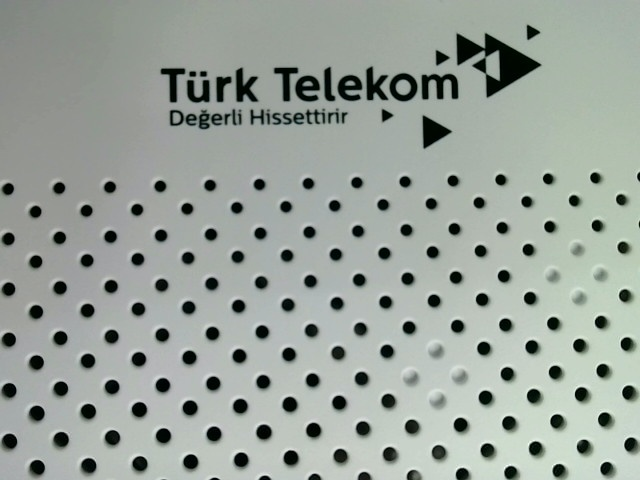AQ_TURKTelekom: (156, 19, 546, 158)
